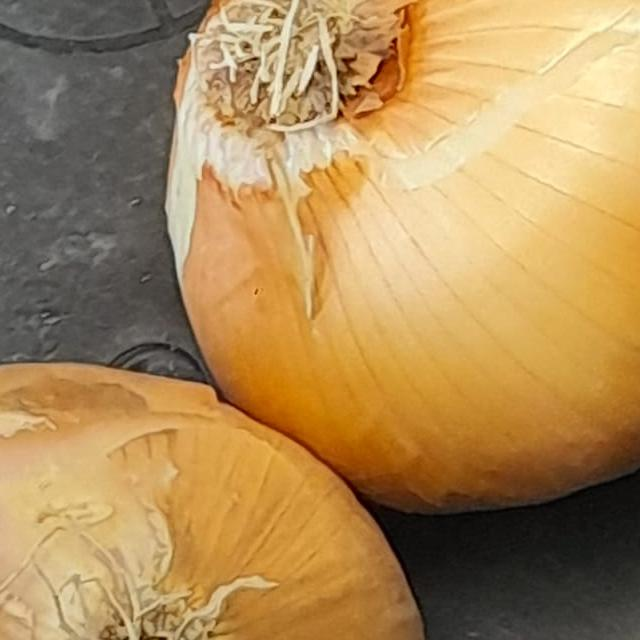onion: (140, 0, 640, 519), (0, 336, 496, 640)
